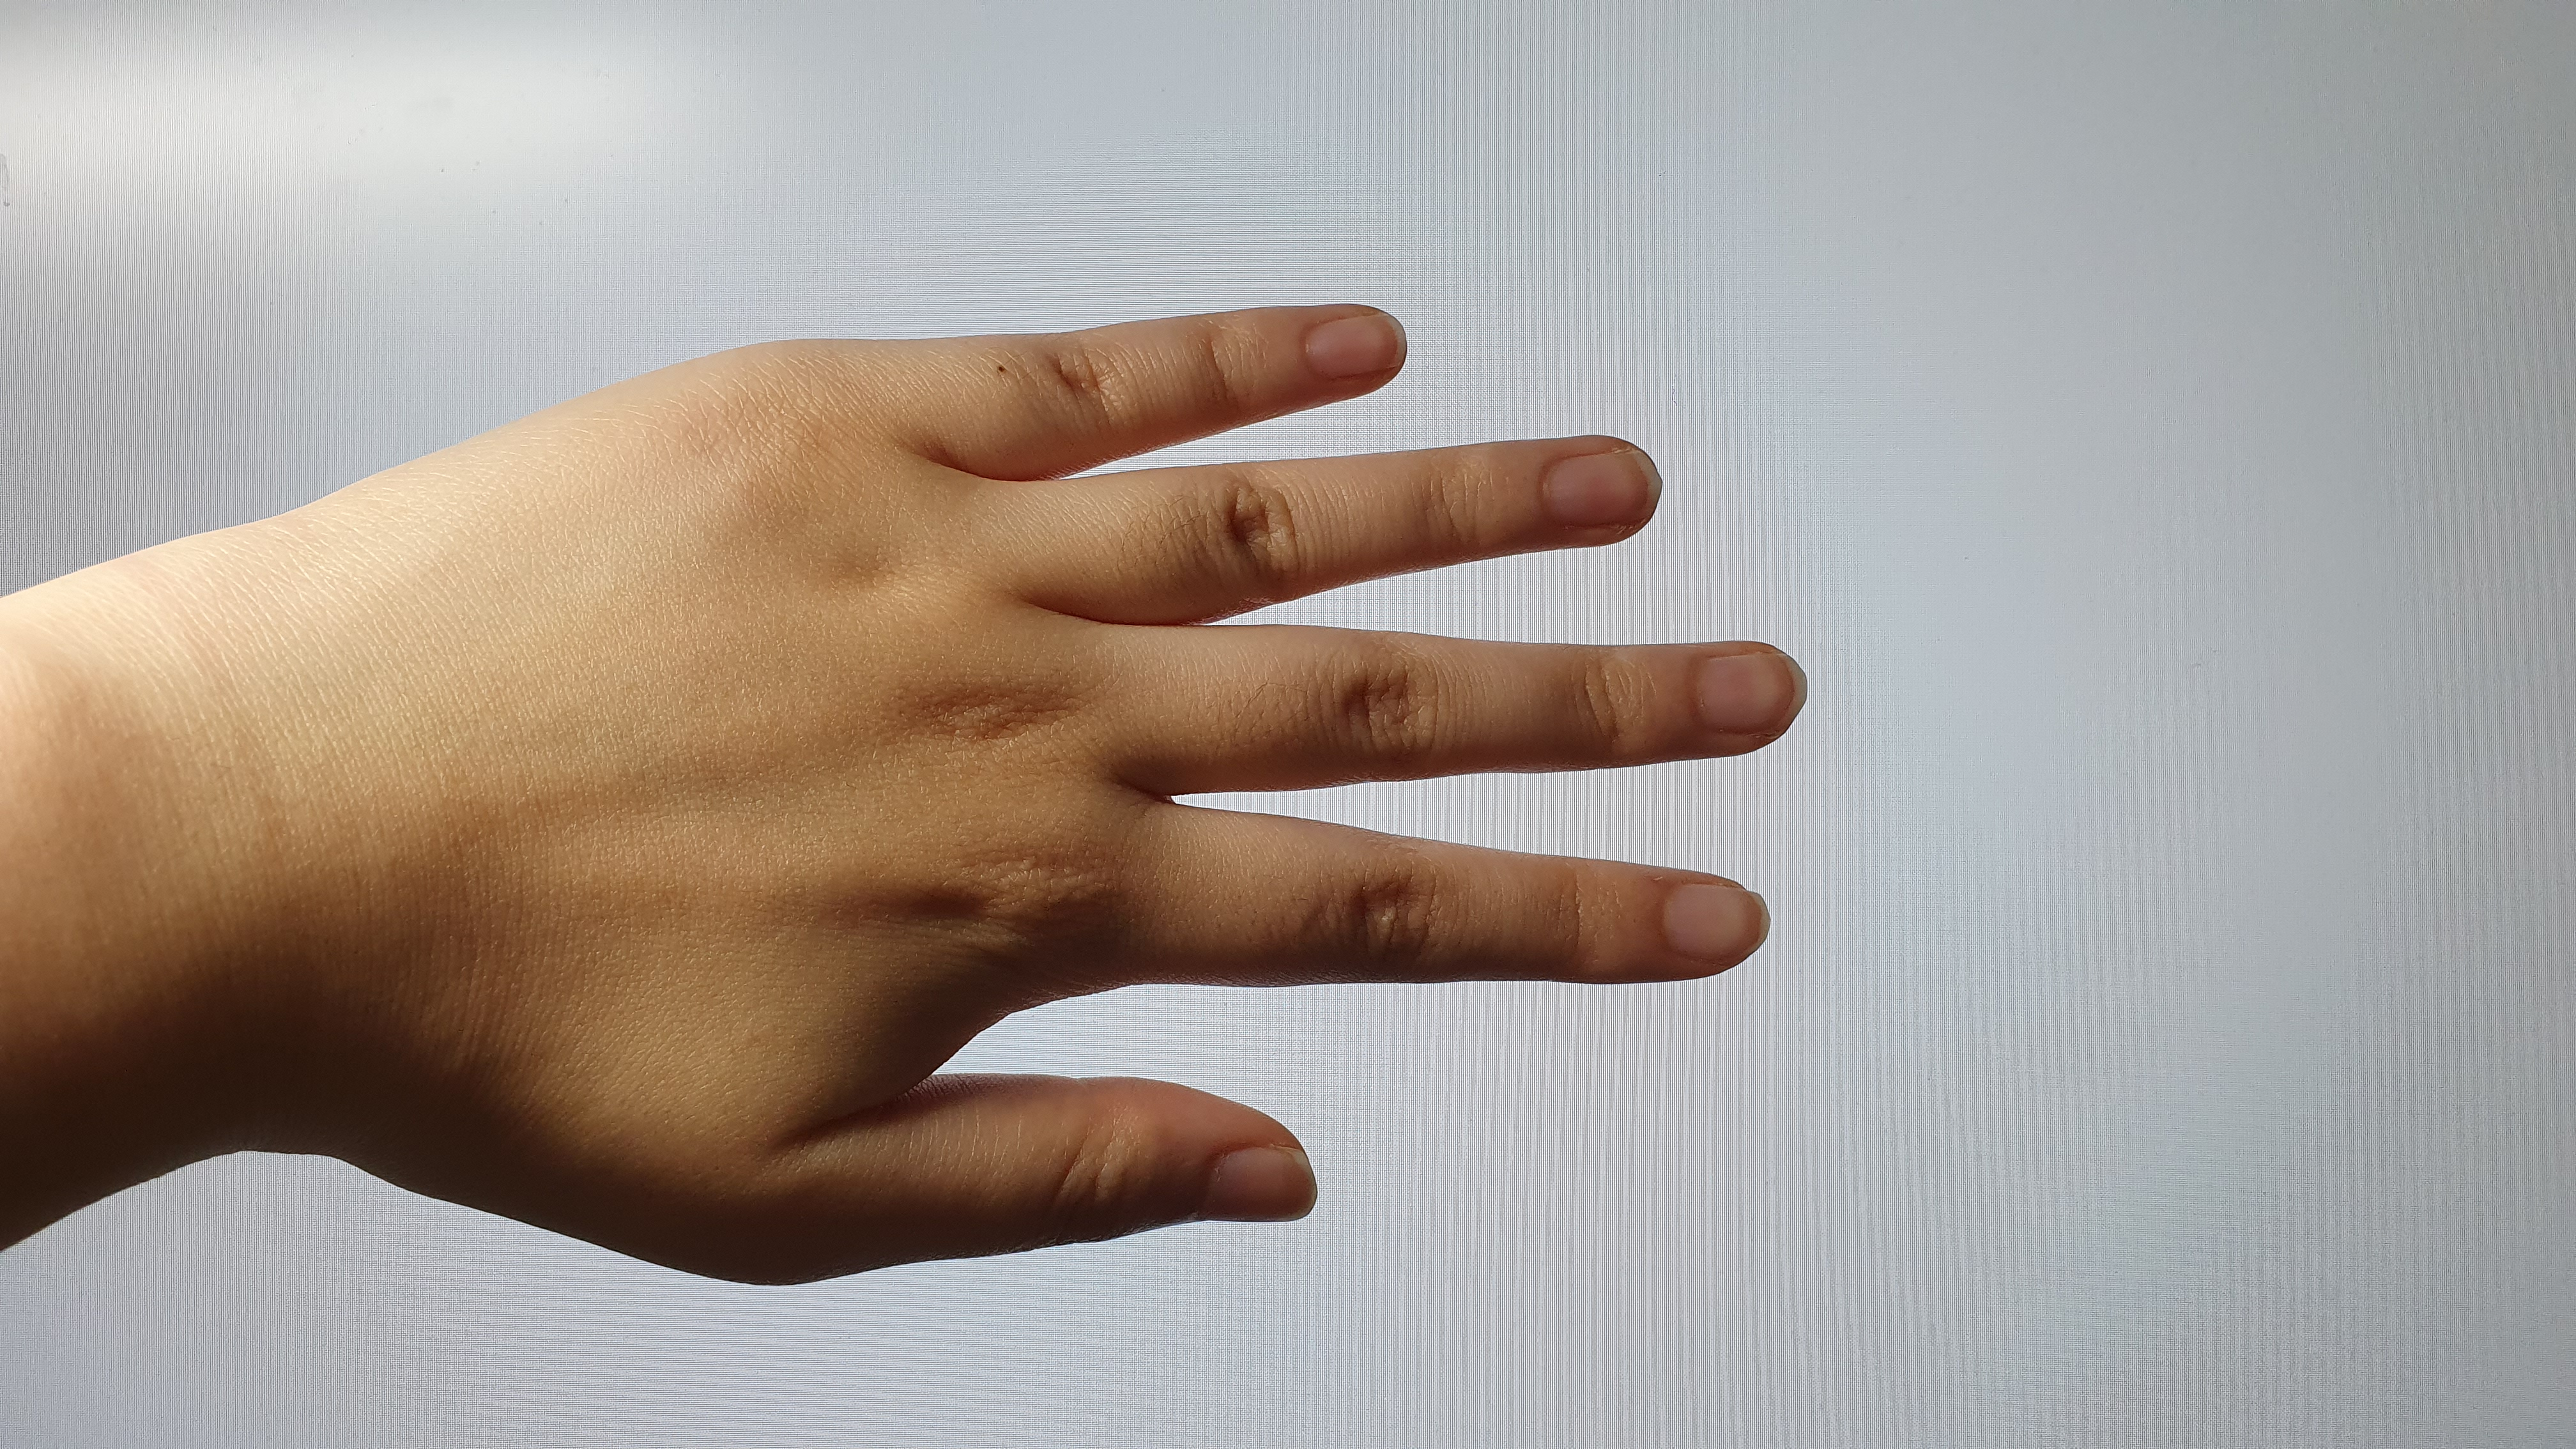backhand: (239, 387, 1159, 1046)
hand: (203, 285, 1847, 1304)
index finger: (1079, 805, 1785, 1012)
middle finger: (1095, 628, 1822, 812)
pinky: (830, 281, 1430, 467)
ring finger: (1007, 430, 1684, 628)
thumb: (787, 1054, 1320, 1292)
